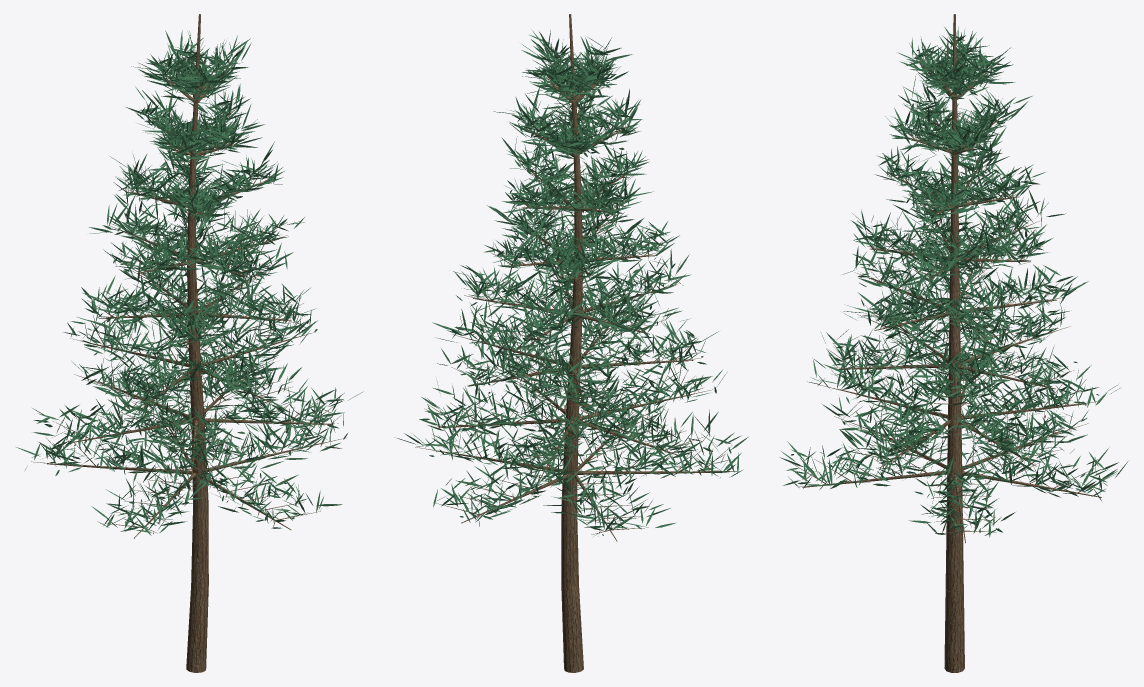
The model's file is pine_2.glb.
3 renders of one model, left to right at view 1: azimuth 30°, elevation 25°; view 2: azimuth 150°, elevation 25°; view 3: azimuth 270°, elevation 25°, orthographic.
Visible parts, largest first — view 1: pine_2; view 2: pine_2; view 3: pine_2.
Boxes of the visible parts, x1,y1,x2,y2 form: pine_2: [16, 14, 363, 672]; pine_2: [397, 14, 748, 672]; pine_2: [779, 14, 1127, 672].
Bounding box in the file's own units: 7.43 × 15.51 × 7.53.
Materials: 2 (1 with a texture image).
